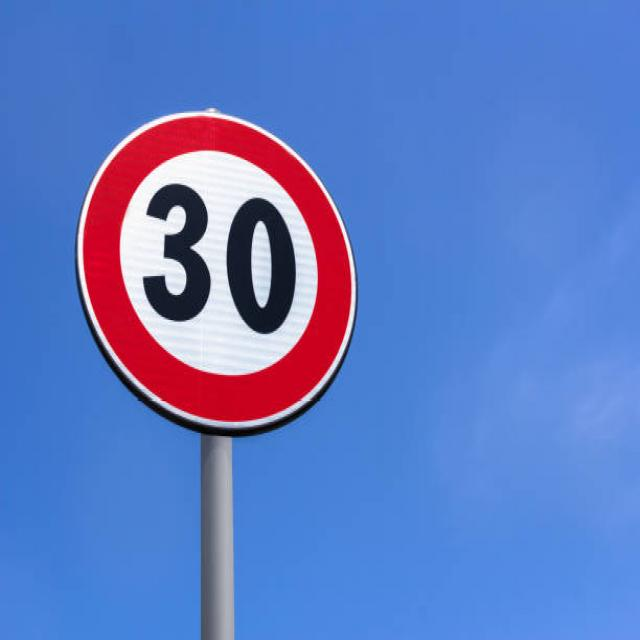speed_limit_30: (72, 98, 365, 437)
